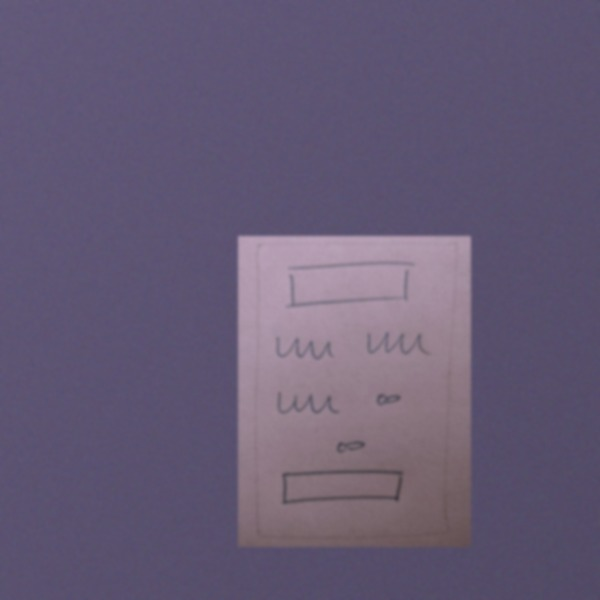switch: (369, 386, 410, 411), (333, 433, 368, 456)
text: (362, 325, 437, 358), (271, 329, 339, 364), (271, 386, 343, 419)
text_input: (278, 257, 420, 312), (277, 466, 409, 507)
